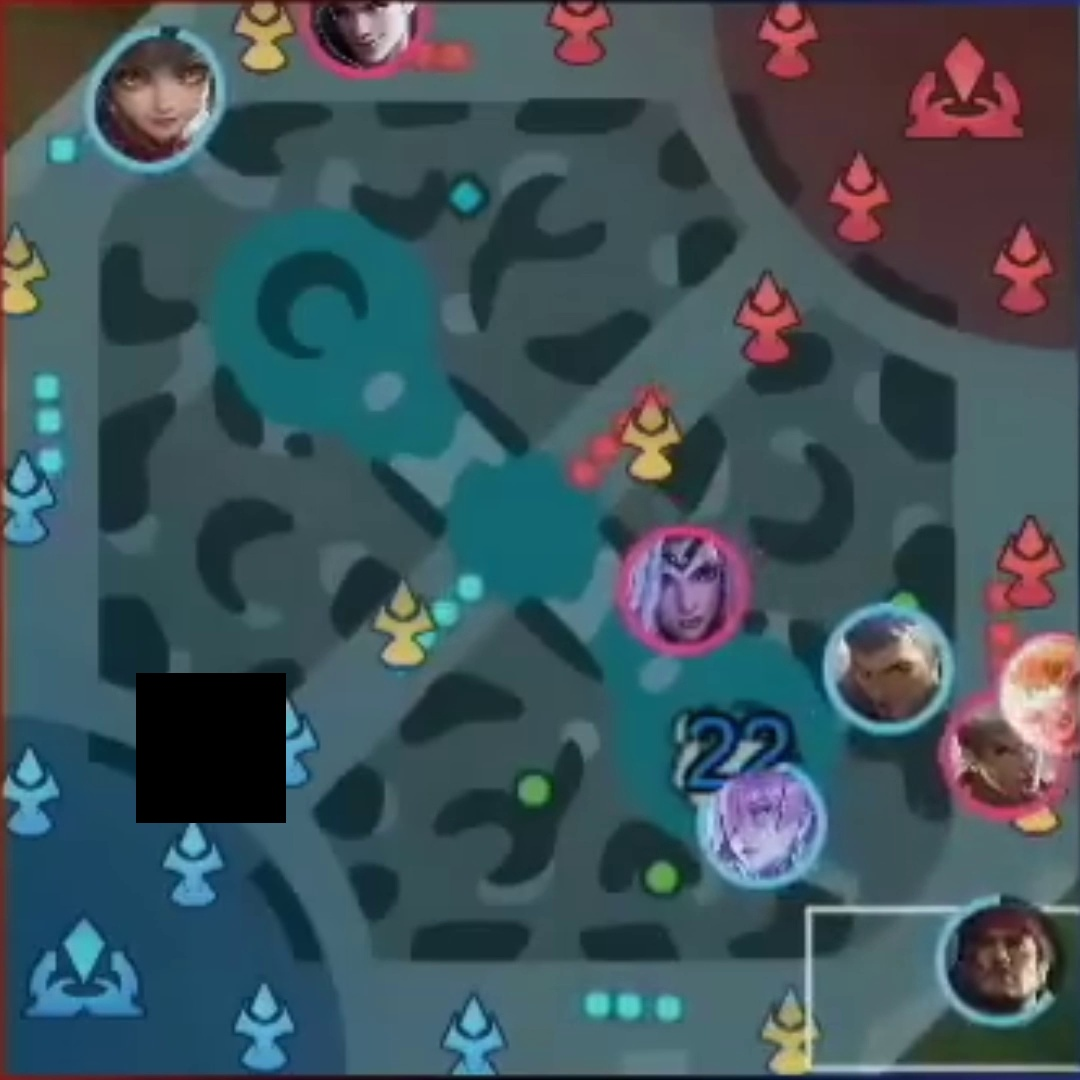Chou: (956, 711, 1039, 801)
Claude: (325, 3, 405, 60)
Fanny: (1025, 642, 1080, 743)
Fredrinn: (841, 621, 935, 717)
Lapu-Lapu: (961, 910, 1042, 1011)
Novaria: (718, 777, 804, 870)
Valentina: (642, 544, 723, 639)
Wanwan: (116, 43, 202, 130)
